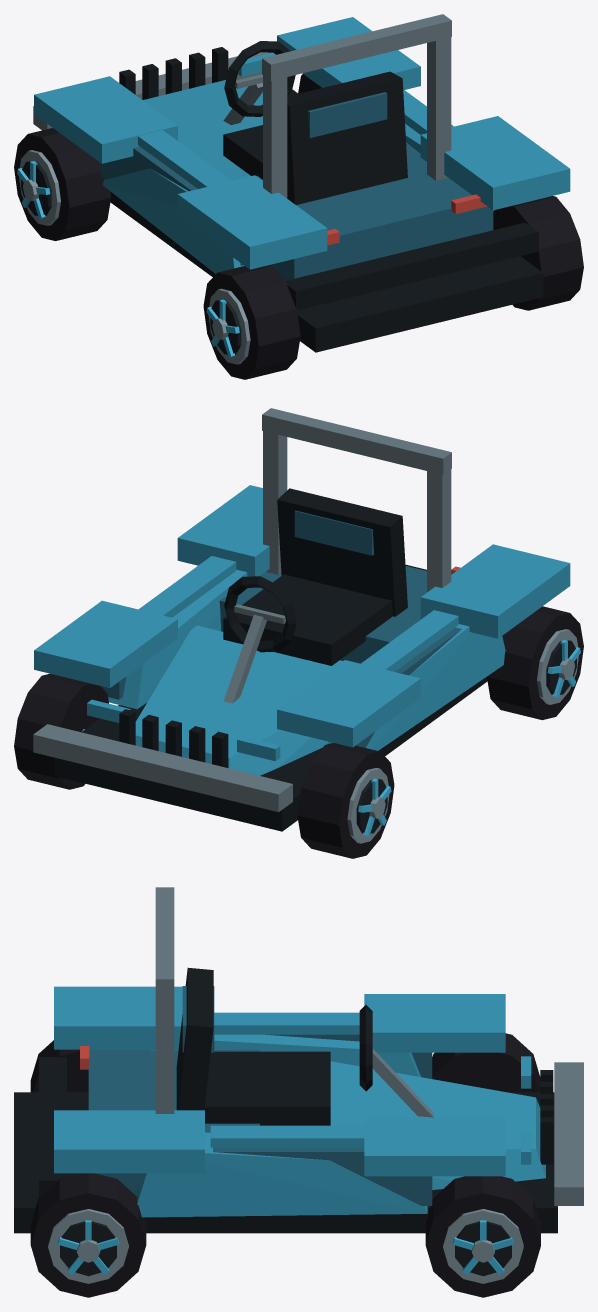
File: kart.glb
The picture shows the model from 3 angles, top to bottom: view 1: azimuth 30°, elevation 25°; view 2: azimuth 150°, elevation 25°; view 3: azimuth 270°, elevation 25°; orthographic projection. The views are drawn at different scales.
Visible parts, largest first — view 1: chassis, wheel-rear-left, wheel-front-left, wheel-rear-right; view 2: chassis, wheel-front-left, wheel-rear-left, wheel-front-right; view 3: chassis, wheel-rear-right, wheel-front-right, wheel-front-left, wheel-rear-left.
Part boxes in pixels (x1,y1,x2,y2): chassis: [33, 14, 570, 352]; wheel-rear-left: [203, 265, 300, 379]; wheel-front-left: [14, 128, 111, 240]; wheel-rear-right: [493, 196, 583, 310]; chassis: [33, 408, 570, 831]; wheel-front-left: [297, 743, 394, 858]; wheel-rear-left: [487, 606, 583, 720]; wheel-front-right: [14, 673, 108, 789]; chassis: [14, 887, 583, 1233]; wheel-rear-right: [30, 1173, 146, 1297]; wheel-front-right: [425, 1176, 540, 1297]; wheel-front-left: [432, 1033, 540, 1092]; wheel-rear-left: [30, 1040, 88, 1092].
Bounding box in the file's own units: 2.27 × 1.67 × 3.06.
